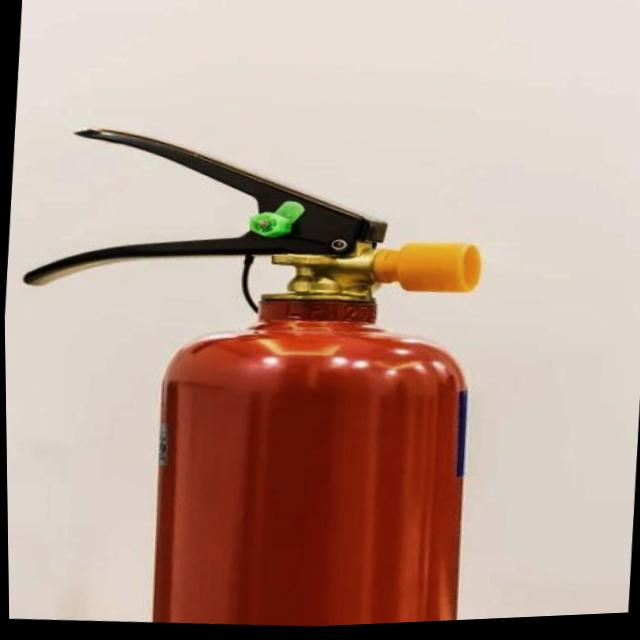FireExtinguisher: (1, 96, 508, 640)
